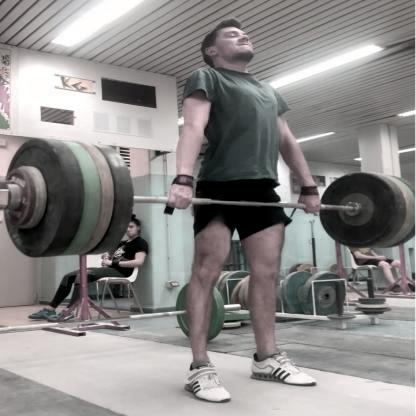barbell: (5, 138, 70, 260), (320, 173, 399, 250)
